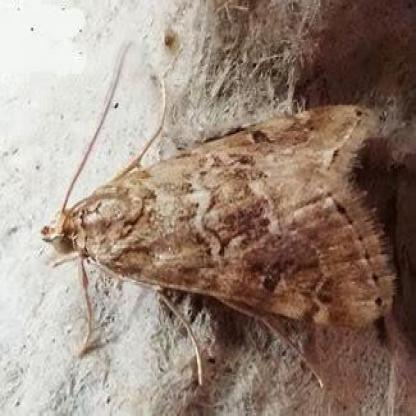Hellula undalis: (36, 35, 402, 390)
